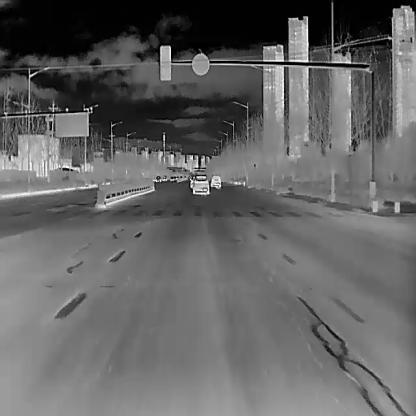car: (192, 174, 209, 194), (210, 173, 221, 188), (155, 174, 161, 181), (169, 176, 174, 181), (163, 174, 167, 180)
